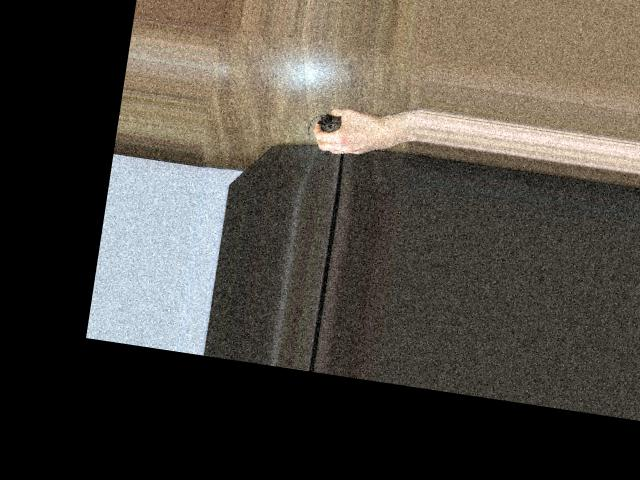beet: (305, 111, 341, 139)
